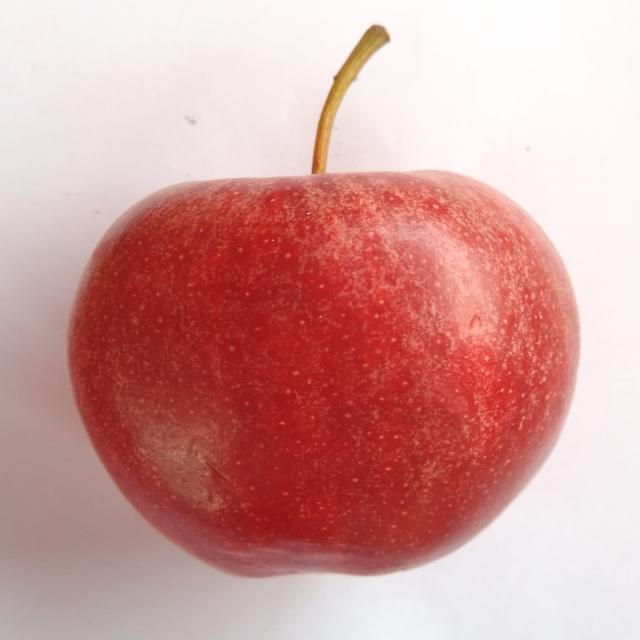Fresh Apple: (65, 150, 582, 585)
